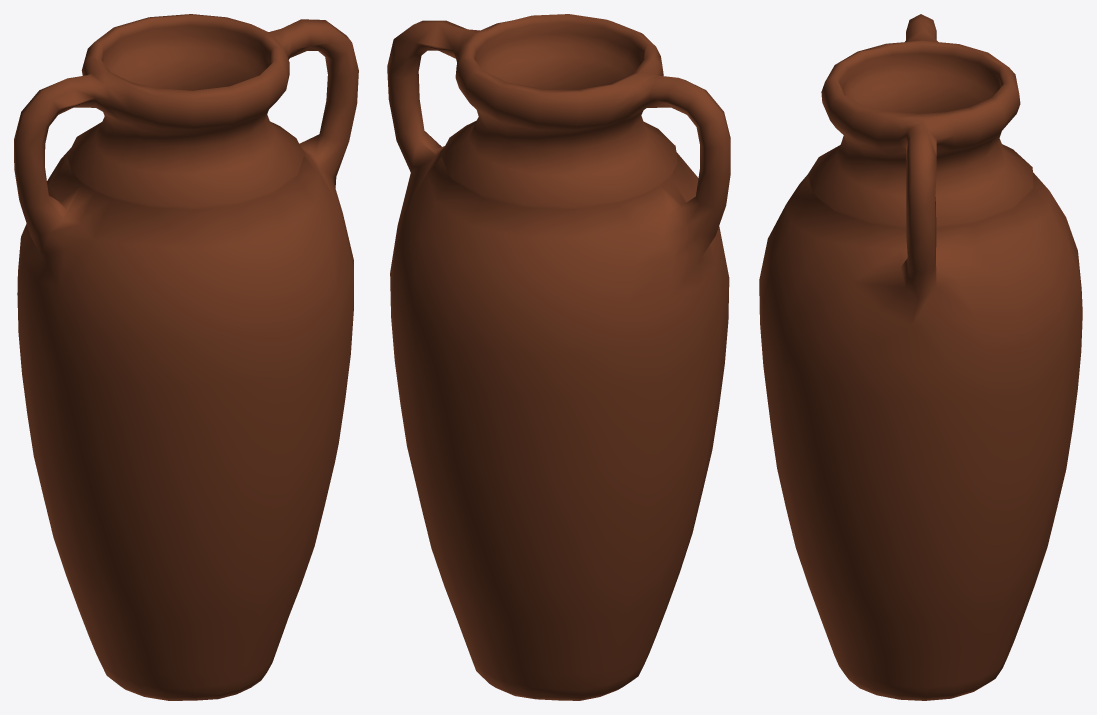
File: museum_assets_6.fbx
The picture shows the model from 3 angles, left to right: view 1: azimuth 30°, elevation 25°; view 2: azimuth 150°, elevation 25°; view 3: azimuth 270°, elevation 25°; orthographic projection. The views are drawn at different scales.
Parts seen in each view (by area): view 1: amfora_2; view 2: amfora_2; view 3: amfora_2.
Part boxes in pixels (left/top/right/bottom): amfora_2: left=14, top=14, right=358, bottom=700; amfora_2: left=387, top=14, right=730, bottom=700; amfora_2: left=759, top=14, right=1082, bottom=700.
Bounding box in the file's own units: 0.6236 × 1.09 × 0.5336.
